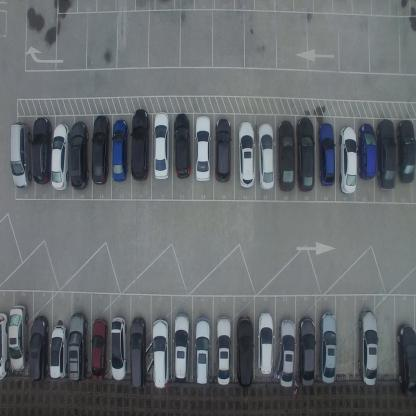car: (357, 309, 379, 387), (9, 121, 32, 190), (7, 301, 29, 372), (396, 323, 416, 400), (130, 108, 150, 182), (67, 312, 88, 382), (376, 119, 396, 192), (31, 118, 52, 186), (29, 315, 50, 382), (338, 126, 358, 196), (296, 116, 314, 193), (91, 114, 110, 186), (70, 120, 89, 191), (318, 311, 336, 385), (237, 120, 256, 190), (277, 119, 295, 192), (51, 122, 70, 191), (172, 312, 190, 384), (152, 317, 170, 389), (396, 120, 416, 184), (297, 316, 315, 387), (236, 314, 253, 389), (257, 121, 275, 191), (317, 122, 336, 187), (194, 114, 212, 182), (215, 316, 232, 387), (357, 121, 377, 181), (130, 315, 146, 390), (278, 318, 295, 388), (110, 315, 127, 382), (194, 317, 210, 388), (153, 110, 169, 181), (214, 117, 231, 183), (90, 317, 107, 383), (257, 310, 274, 374), (111, 119, 128, 183), (174, 112, 190, 179), (49, 324, 68, 380), (0, 311, 8, 381)
